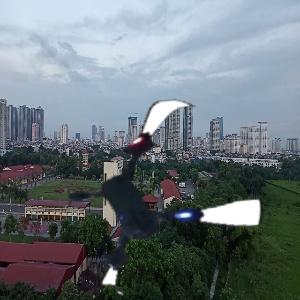drone: (55, 88, 265, 298)
